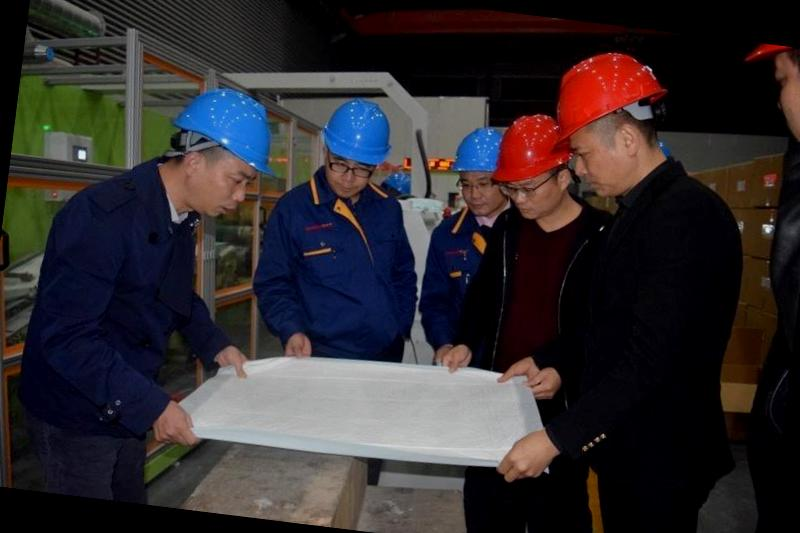helmet: (546, 40, 680, 171), (156, 79, 294, 188), (313, 92, 401, 182)
no_vest: (552, 158, 734, 484), (18, 160, 214, 404)
person: (3, 62, 294, 516), (512, 43, 761, 533), (248, 84, 431, 368)
